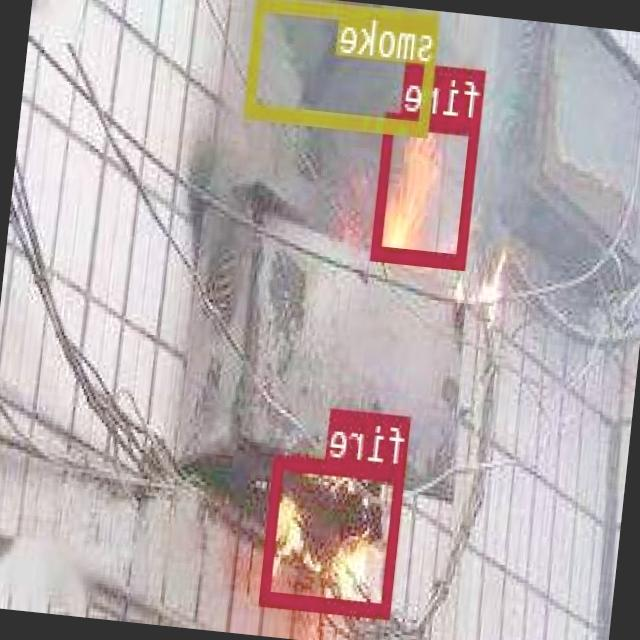fire: (262, 452, 408, 617), (373, 109, 481, 266)
smoke: (245, 0, 442, 134)
